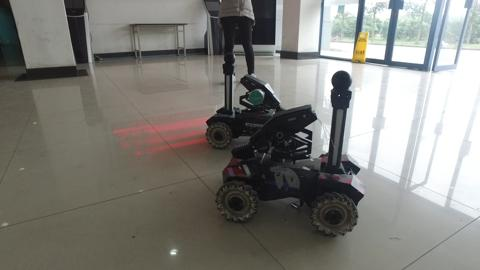chariot: (214, 69, 363, 240), (200, 53, 287, 152)
